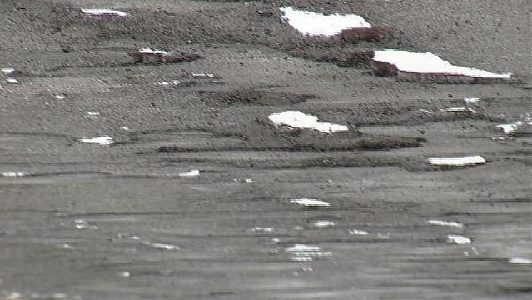pothole: (328, 48, 518, 90), (275, 3, 383, 47), (263, 108, 351, 137), (400, 153, 489, 175), (123, 47, 209, 68), (301, 154, 401, 171), (348, 129, 424, 150)
